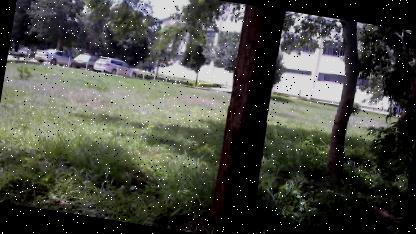car: (89, 53, 140, 83), (30, 44, 75, 72)
tree: (198, 3, 296, 233), (312, 19, 368, 183)
